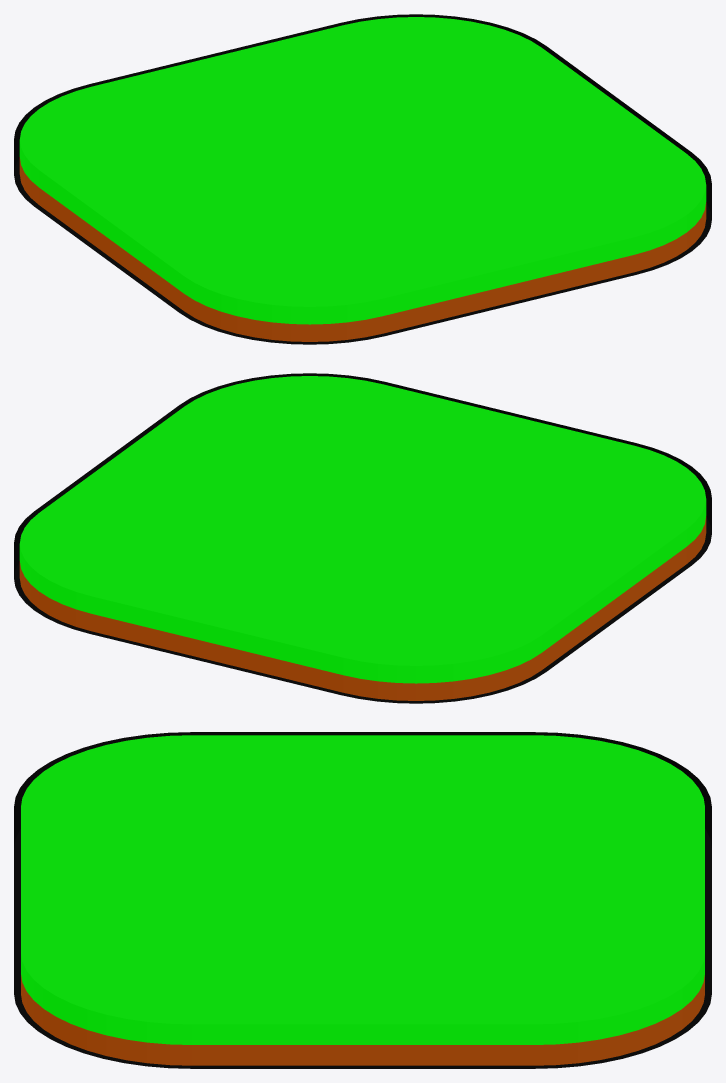
File: Ground2.fbx
3 views of the same model, one above another, from view 1: azimuth 30°, elevation 25°; view 2: azimuth 150°, elevation 25°; view 3: azimuth 270°, elevation 25° (orthographic). The views are drawn at different scales.
Visible parts, largest first — view 1: Ground2; view 2: Ground2; view 3: Ground2.
Part boxes in pixels (box(x1,y1,x2,y2)): Ground2: box(14, 14, 711, 344); Ground2: box(14, 373, 711, 703); Ground2: box(14, 732, 711, 1068).
Size of the model in its own units: 61.2 by 61.2 by 4.04.
